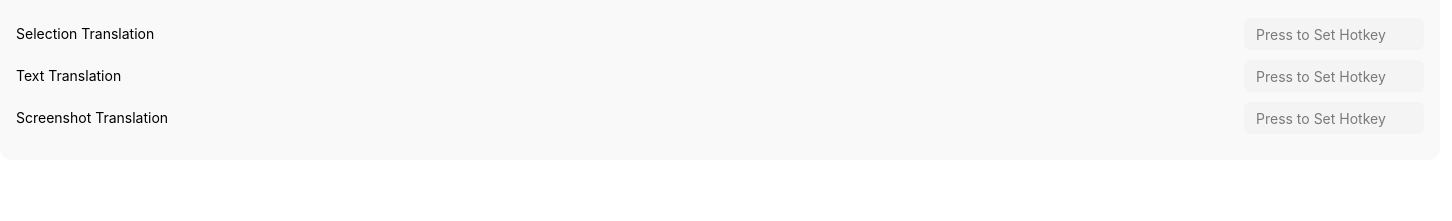
Scenario: Hotkey page save flow › save registers and persists the draft, then the button disappears
Press t in the field with placeholder "Press to Set Hotkey" in the row of "Selection Translation", box [1244, 18, 1424, 50]
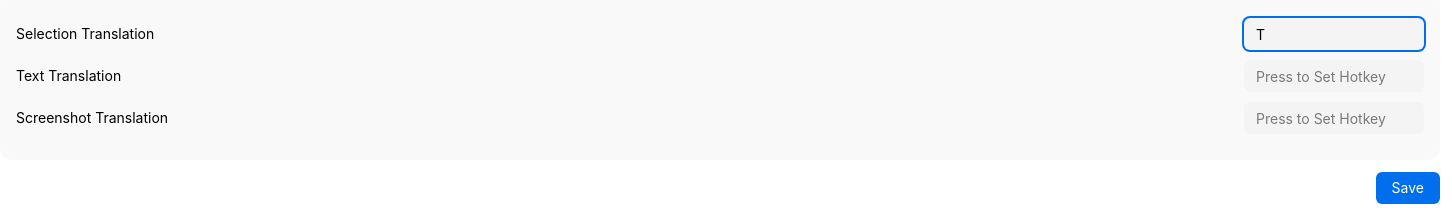
Click the button "Save": (1408, 188) [1376, 172, 1440, 204]
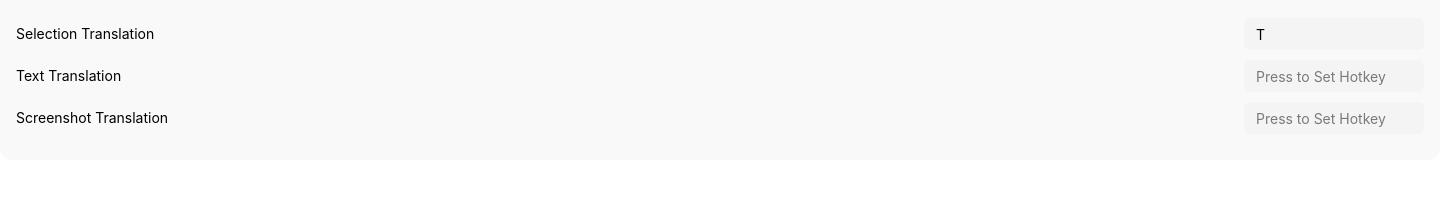
Expected: the button "Save" is gone
